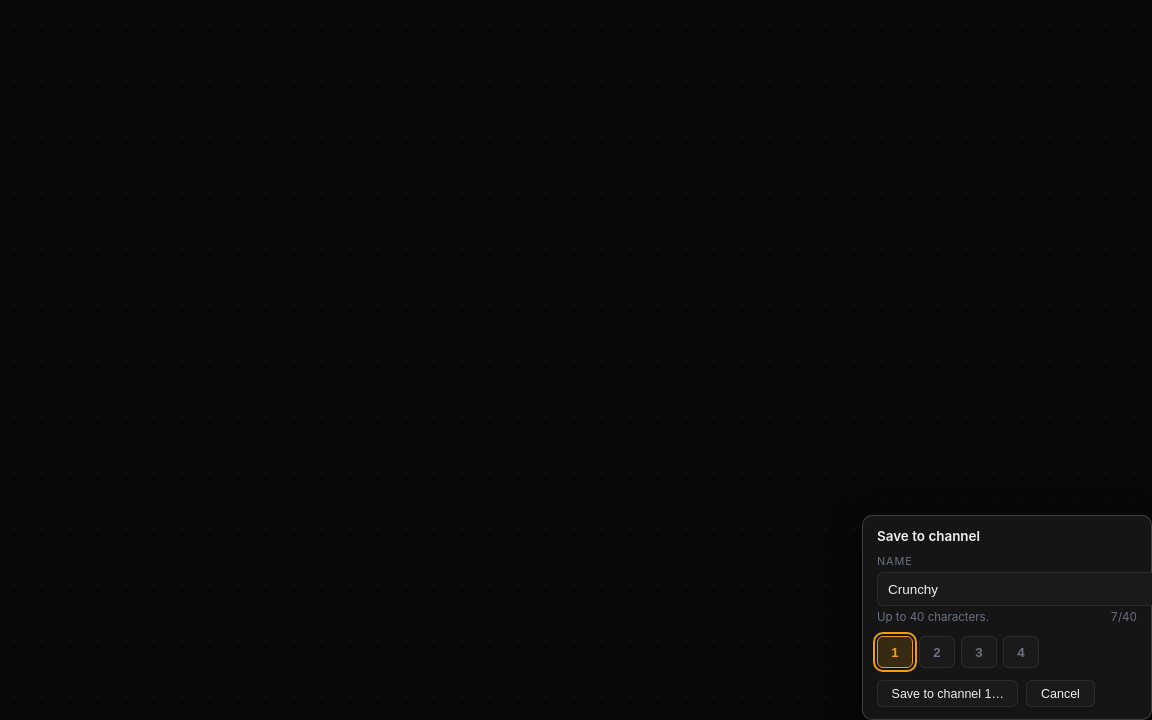
Test case: save slot picker › name field › types digits and moves the caret with arrows instead of picking a slot
The image size is (1152, 720).
(page scrolled)
Click the field labelled "Name".
click(1014, 589)  # box [877,572,1151,606]
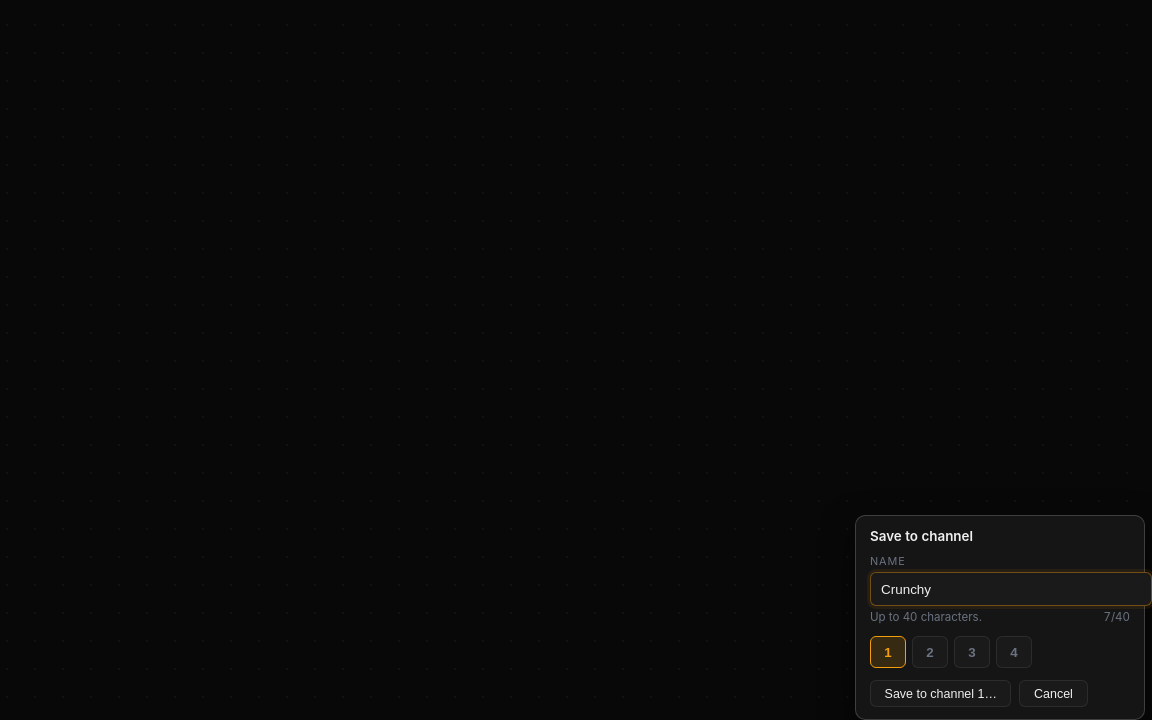
Type keys "{End} 2{ArrowLeft}{ArrowLeft}{ArrowRight}3"
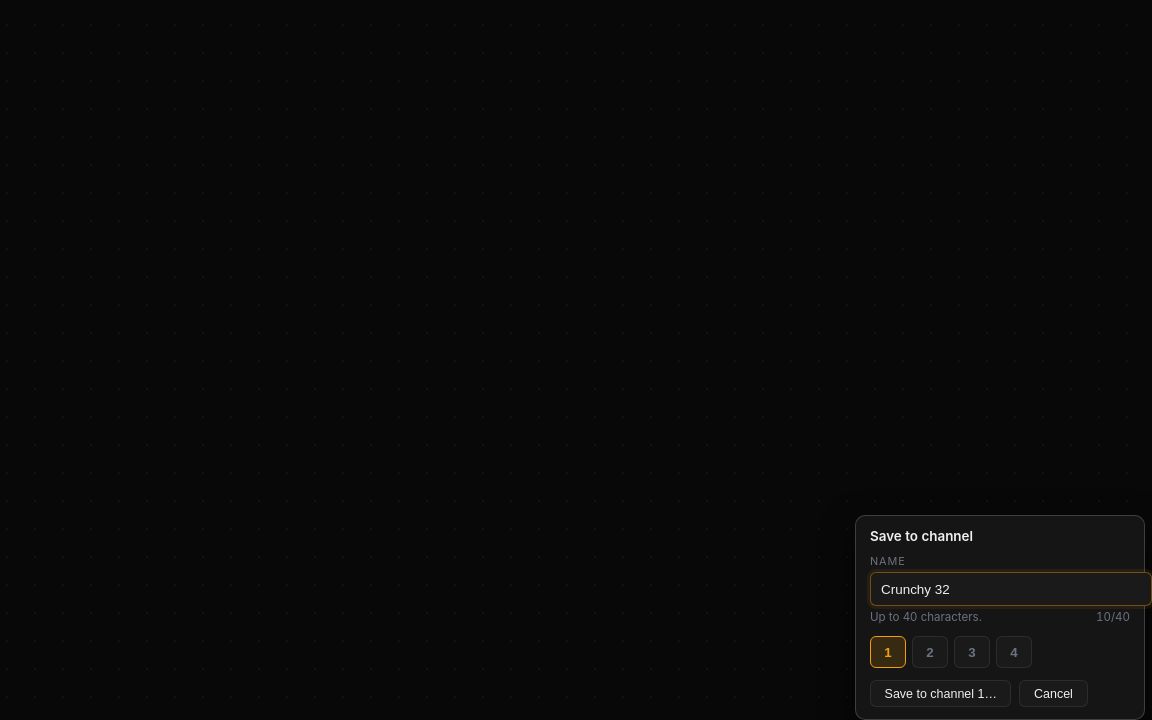
Expected: the field labelled "Name" holds "Crunchy 32", [870,572,1151,606]
